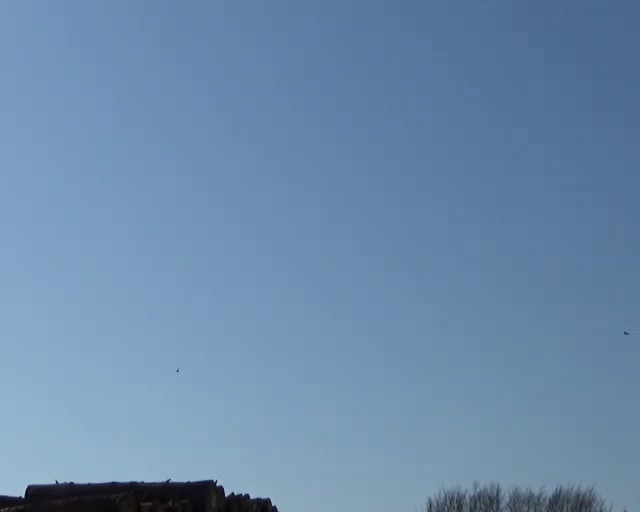BIRD: (174, 366, 182, 374)
